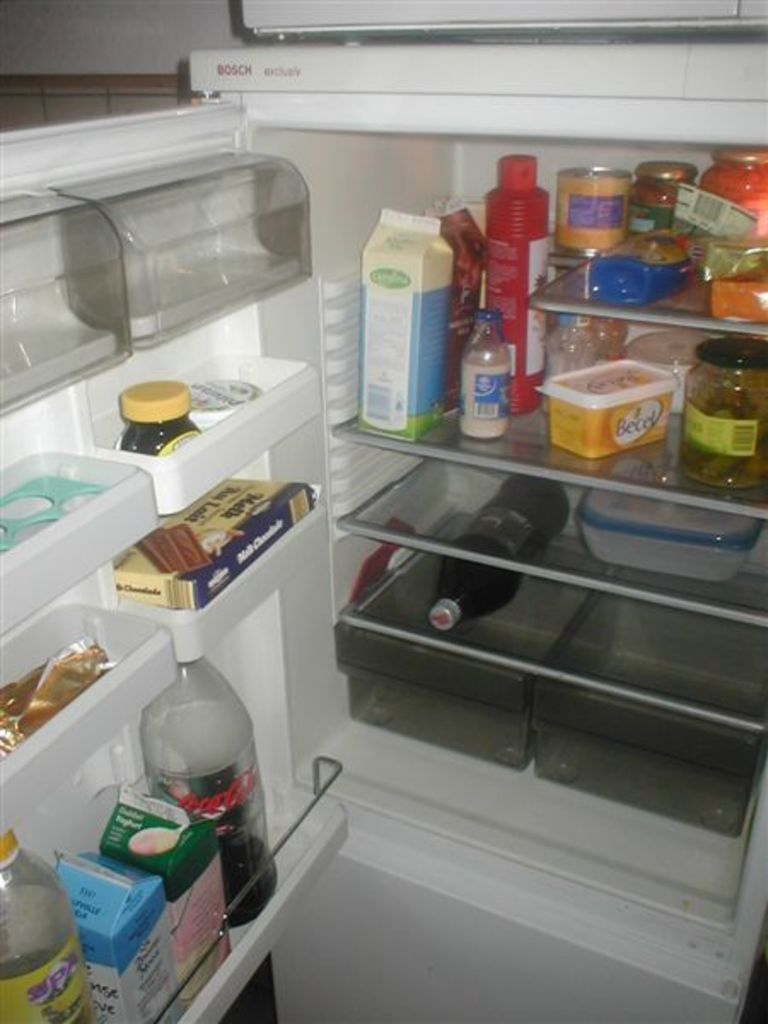refrigerator door: (7, 144, 281, 961)
